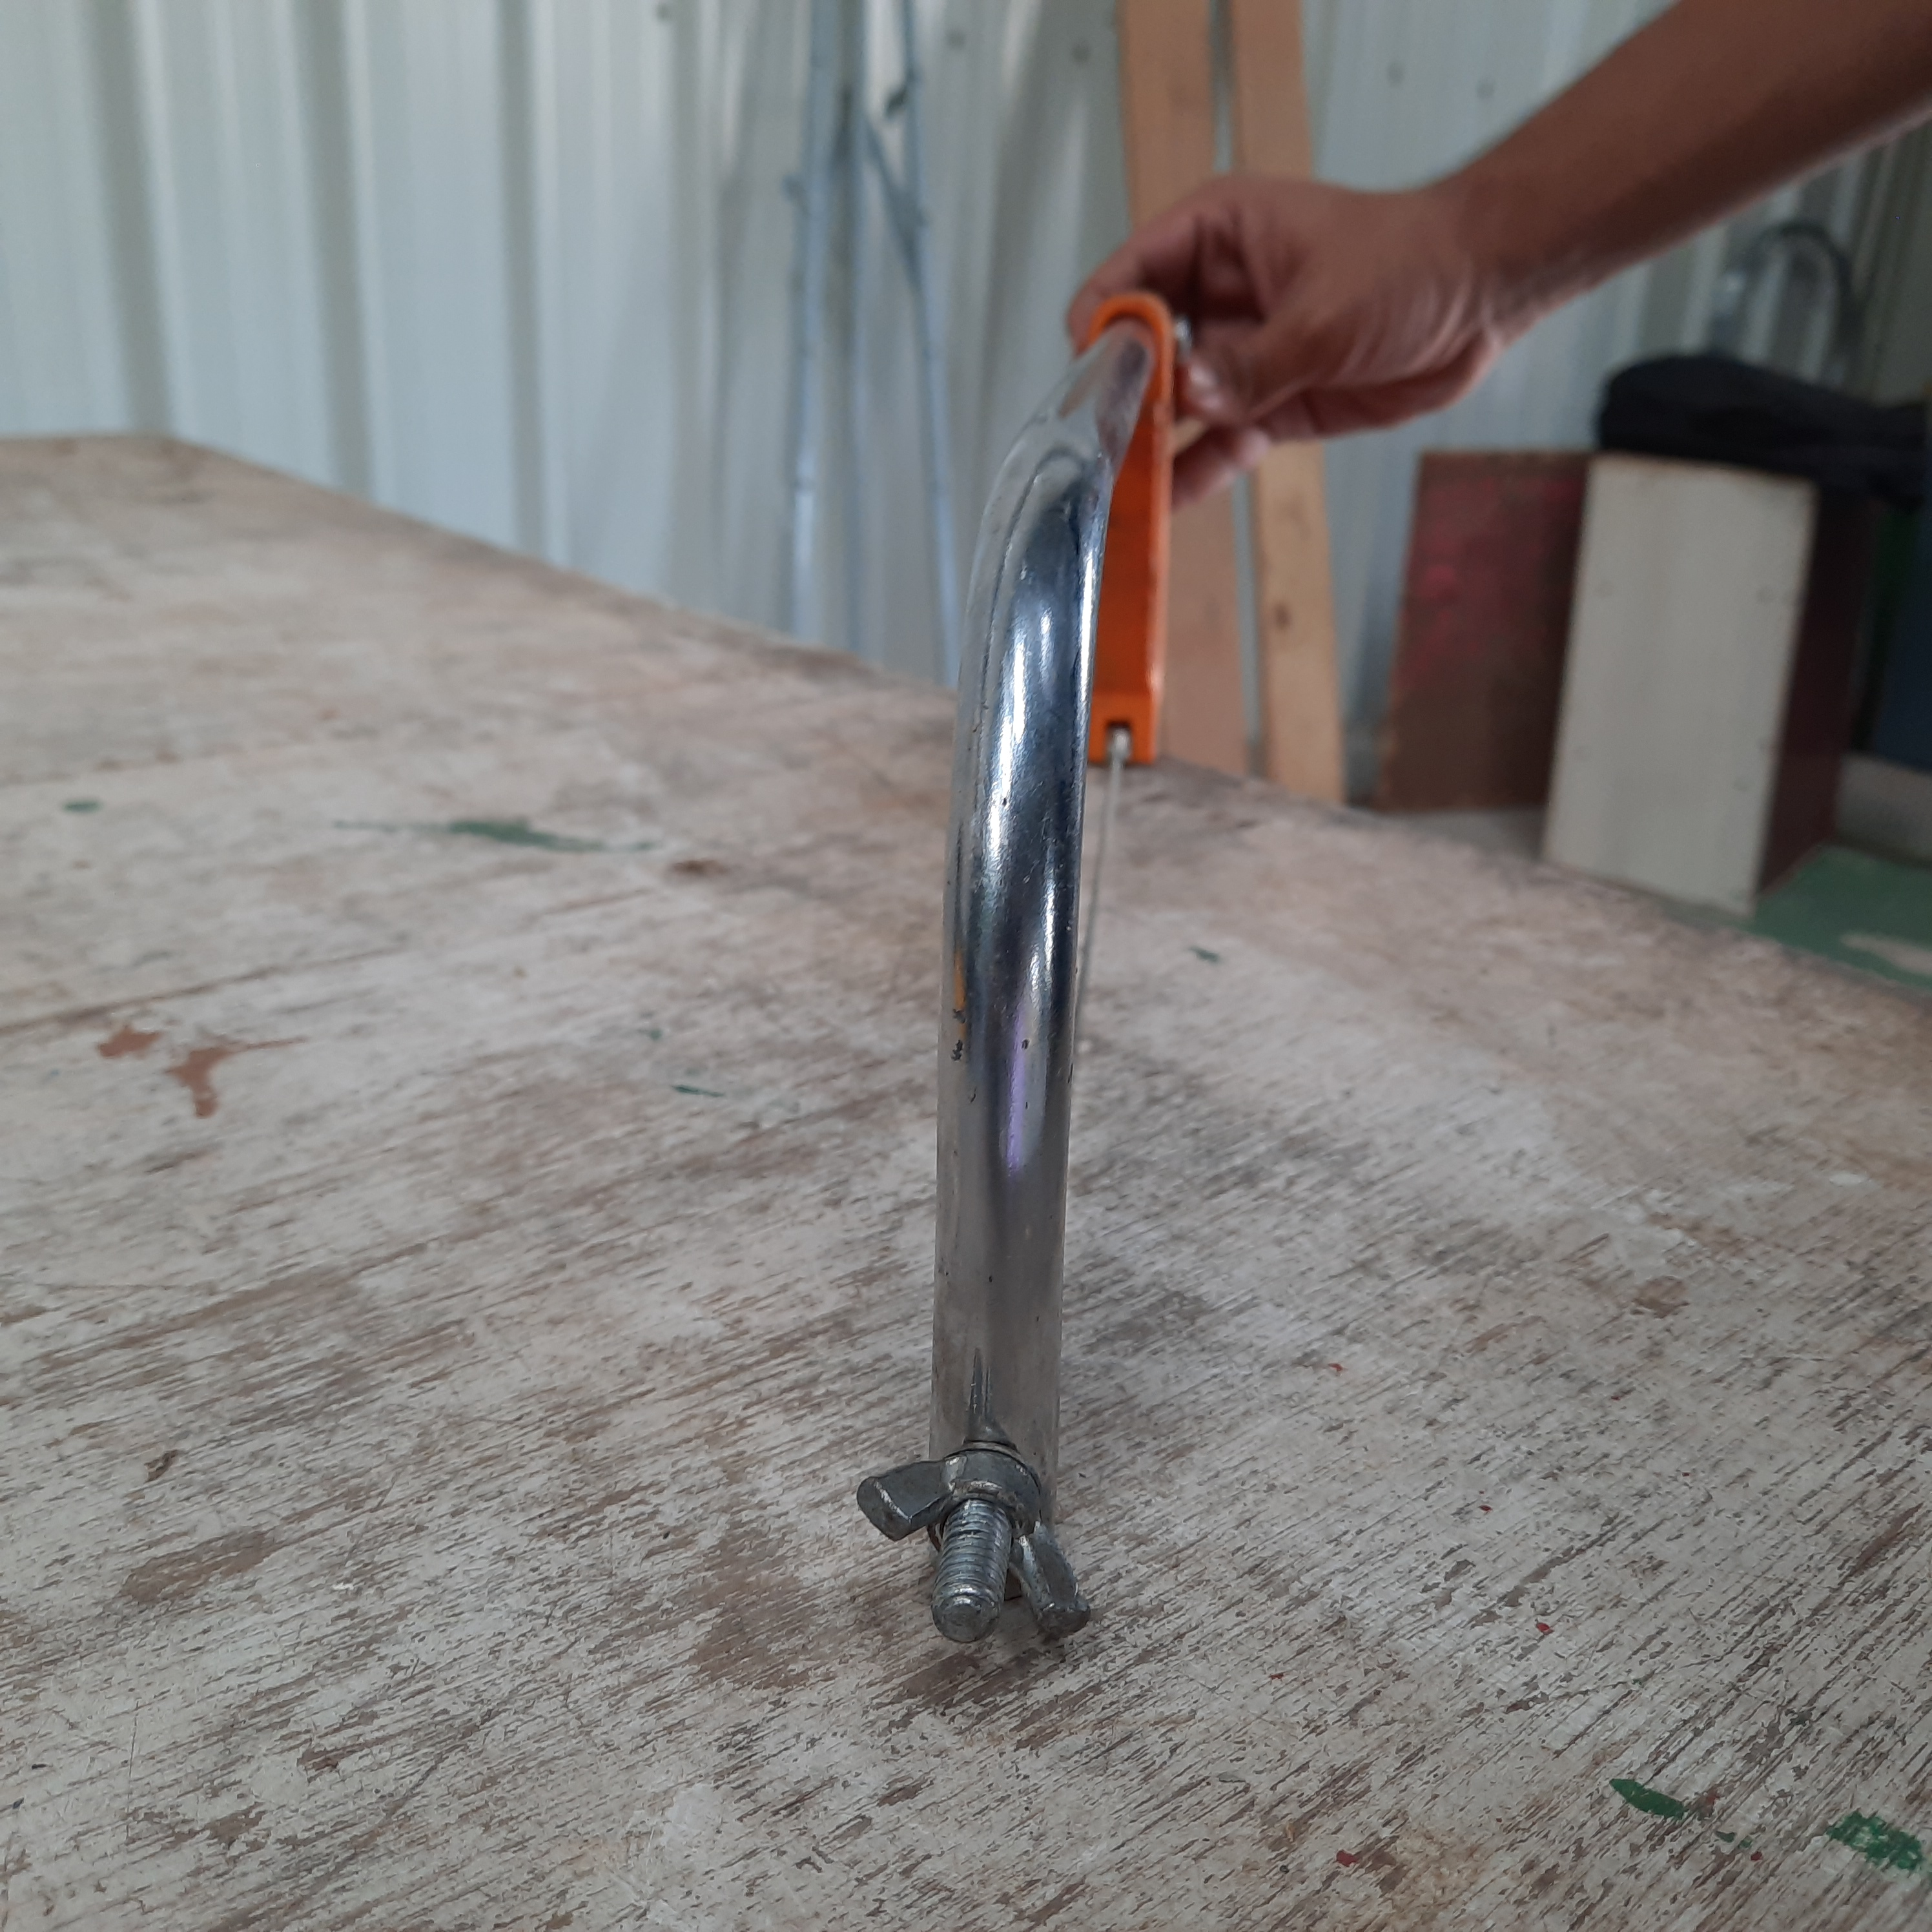Hexaframe: (856, 258, 1265, 1637)
